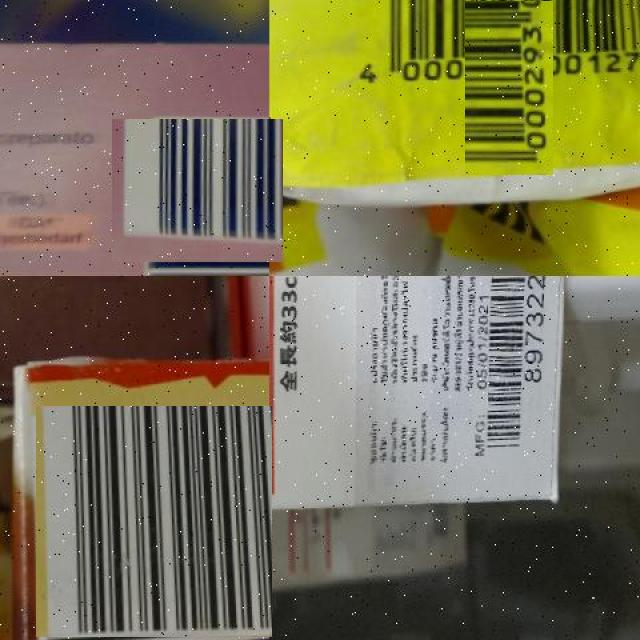Barcode: (36, 405, 270, 639), (119, 112, 276, 269), (421, 0, 597, 132), (480, 276, 553, 463)
